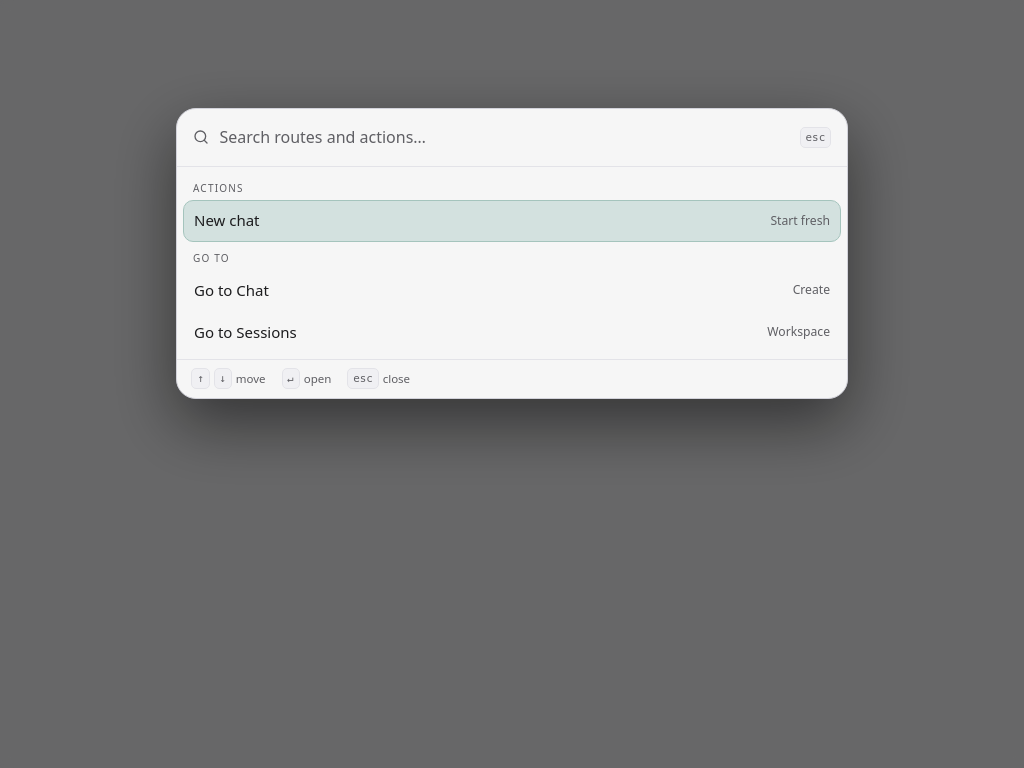
Scenario: CommandPalette › lists actions and routes, and filters both
Expected: the text "Actions" is shown, [193,182,244,196]
Expected: the text "Go to" is shown, [193,250,230,264]
Type "sessions" into the field named "Search commands".
click(504, 137); type("sessions")  # box [219,122,789,152]
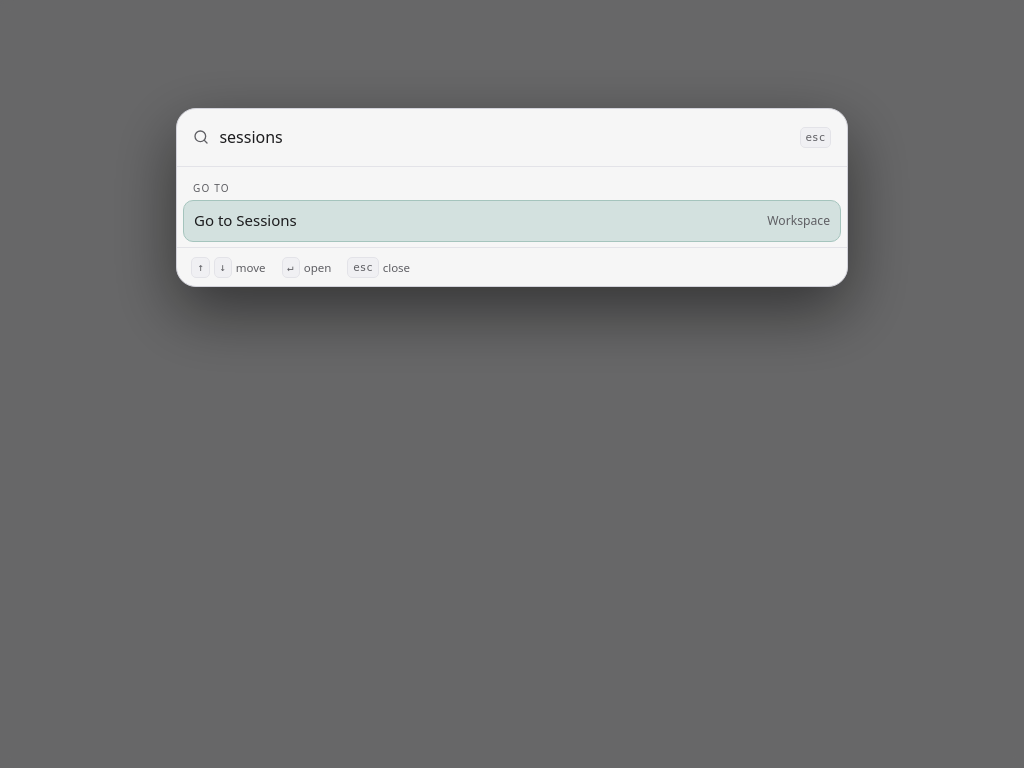
Expected: the text "Go to Sessions" is shown, [194,210,297,232]
Now the button "New chat" is gone
